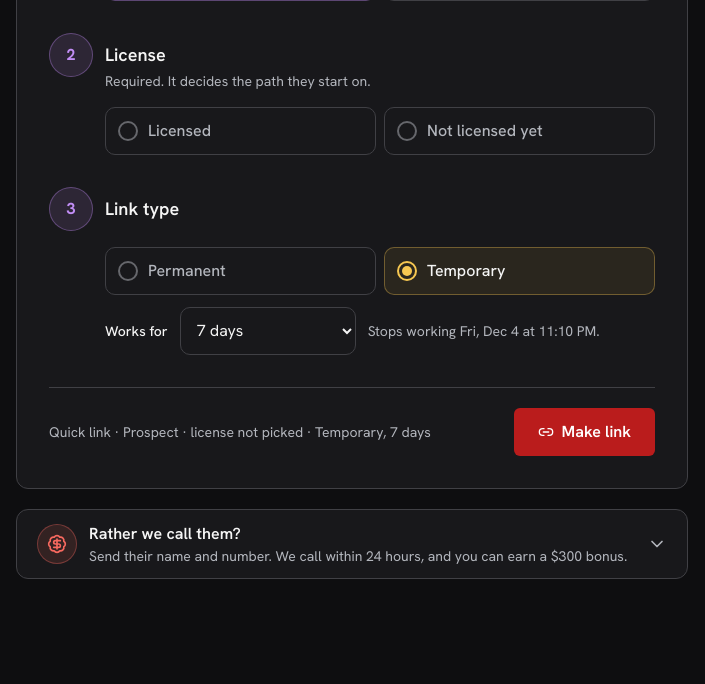
it: Refer a recruit › says what the bonus means in plain words: no AP, no raw bg-white box
The width and height of the screenshot is (705, 684).
(page scrolled)
expect the text "you can earn a $300 bonus" is shown: met, box [89, 547, 627, 565]
Click the button "Rather we call them?" at (57, 544), box [17, 510, 687, 578]
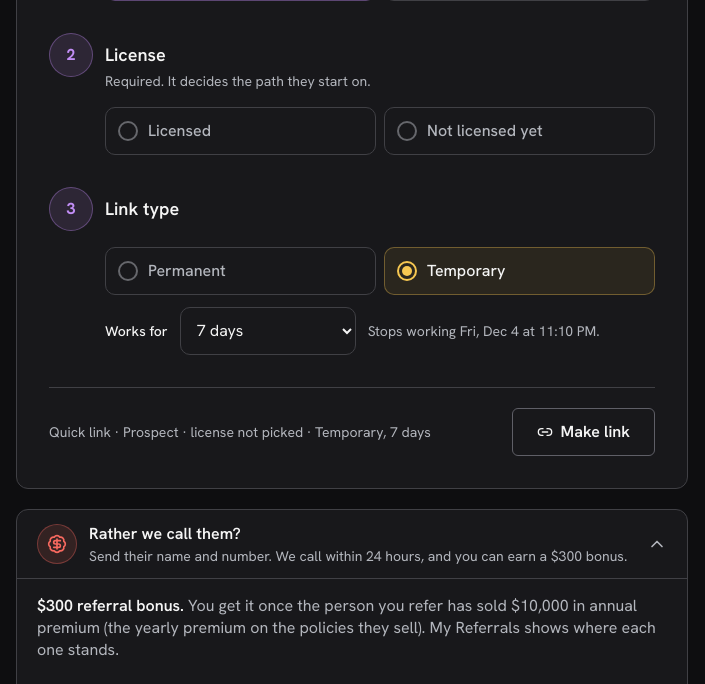
expect the element with test id "referral-bonus" shows "$300 referral bonus.": met, box [37, 595, 184, 616]
expect the element with test id "referral-bonus" shows "$10,000 in annual premium": met, box [37, 595, 656, 660]
expect the element with test id "referral-bonus" shows "the yearly premium on the policies they sell": met, box [37, 595, 656, 660]
